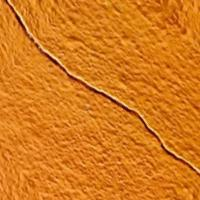crack: (7, 0, 199, 182)
